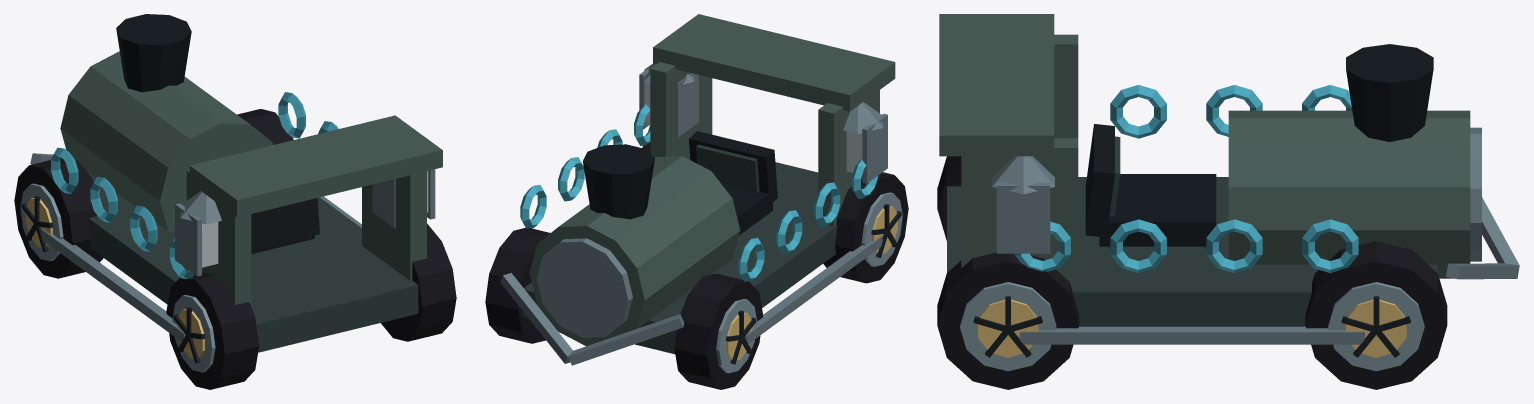
Rendered from kart.glb.
3 renders of one model, left to right at view 1: azimuth 30°, elevation 25°; view 2: azimuth 150°, elevation 25°; view 3: azimuth 270°, elevation 25°, orthographic. The views are drawn at different scales.
Visible parts, largest first — view 1: identity-train-locomotive-boiler-and-cowcatcher, wheel-rear-left, wheel-front-left, identity-train-motif-lanterns, wheel-rear-right, identity-train-motif-water, identity-train-driver-cockpit, wheel-front-right; view 2: identity-train-locomotive-boiler-and-cowcatcher, wheel-front-left, wheel-rear-left, identity-train-motif-water, identity-train-driver-cockpit, identity-train-motif-lanterns, wheel-front-right; view 3: identity-train-locomotive-boiler-and-cowcatcher, wheel-front-right, wheel-rear-right, identity-train-driver-cockpit, identity-train-motif-water, identity-train-motif-lanterns, wheel-rear-left.
Boxes of the visible parts, bbox=[...] form: identity-train-locomotive-boiler-and-cowcatcher: bbox=[30, 14, 442, 352]; wheel-rear-left: bbox=[166, 272, 259, 389]; wheel-front-left: bbox=[14, 158, 103, 278]; identity-train-motif-lanterns: bbox=[175, 169, 435, 276]; wheel-rear-right: bbox=[381, 223, 456, 341]; identity-train-motif-water: bbox=[51, 92, 338, 279]; identity-train-driver-cockpit: bbox=[251, 198, 319, 254]; wheel-front-right: bbox=[237, 109, 293, 144]; identity-train-locomotive-boiler-and-cowcatcher: bbox=[500, 14, 895, 365]; wheel-front-left: bbox=[674, 273, 762, 389]; wheel-rear-left: bbox=[823, 172, 908, 283]; identity-train-motif-water: bbox=[520, 104, 878, 281]; identity-train-driver-cockpit: bbox=[689, 131, 777, 235]; identity-train-motif-lanterns: bbox=[639, 64, 887, 183]; wheel-front-right: bbox=[485, 228, 550, 343]; identity-train-locomotive-boiler-and-cowcatcher: bbox=[939, 14, 1519, 344]; wheel-front-right: bbox=[1305, 241, 1447, 389]; wheel-rear-right: bbox=[937, 252, 1079, 389]; identity-train-driver-cockpit: bbox=[1085, 124, 1216, 246]; identity-train-motif-water: bbox=[1014, 85, 1358, 273]; identity-train-motif-lanterns: bbox=[992, 156, 1054, 253]; wheel-rear-left: bbox=[937, 156, 961, 240].
Size of the model in its own units: 1.82 by 1.49 by 3.04.
